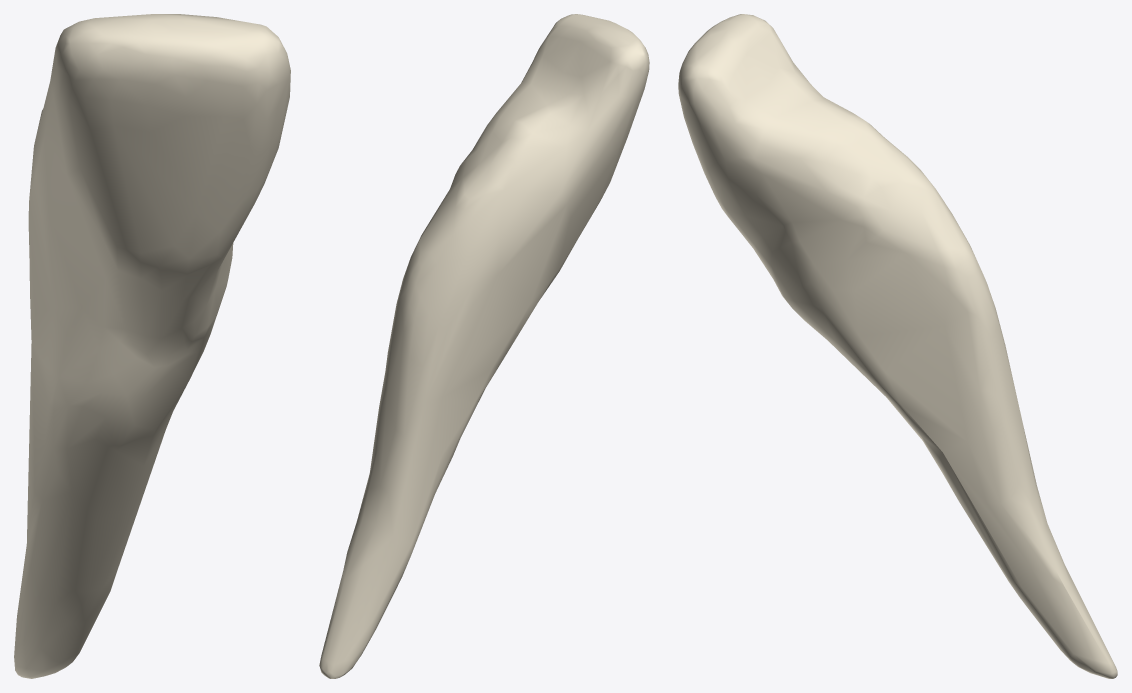
Rendered from tooth-42.glb.
3 views of the same model, side by side, from view 1: azimuth 30°, elevation 25°; view 2: azimuth 150°, elevation 25°; view 3: azimuth 270°, elevation 25° (orthographic). The views are drawn at different scales.
Parts seen in each view (by area): view 1: tooth-42; view 2: tooth-42; view 3: tooth-42.
Part boxes in pixels (x1=…): tooth-42: x1=14, y1=14, x2=290, y2=678; tooth-42: x1=319, y1=14, x2=649, y2=678; tooth-42: x1=678, y1=14, x2=1117, y2=678.
Size of the model in its own units: 0.1962 by 0.6285 by 0.4216.
